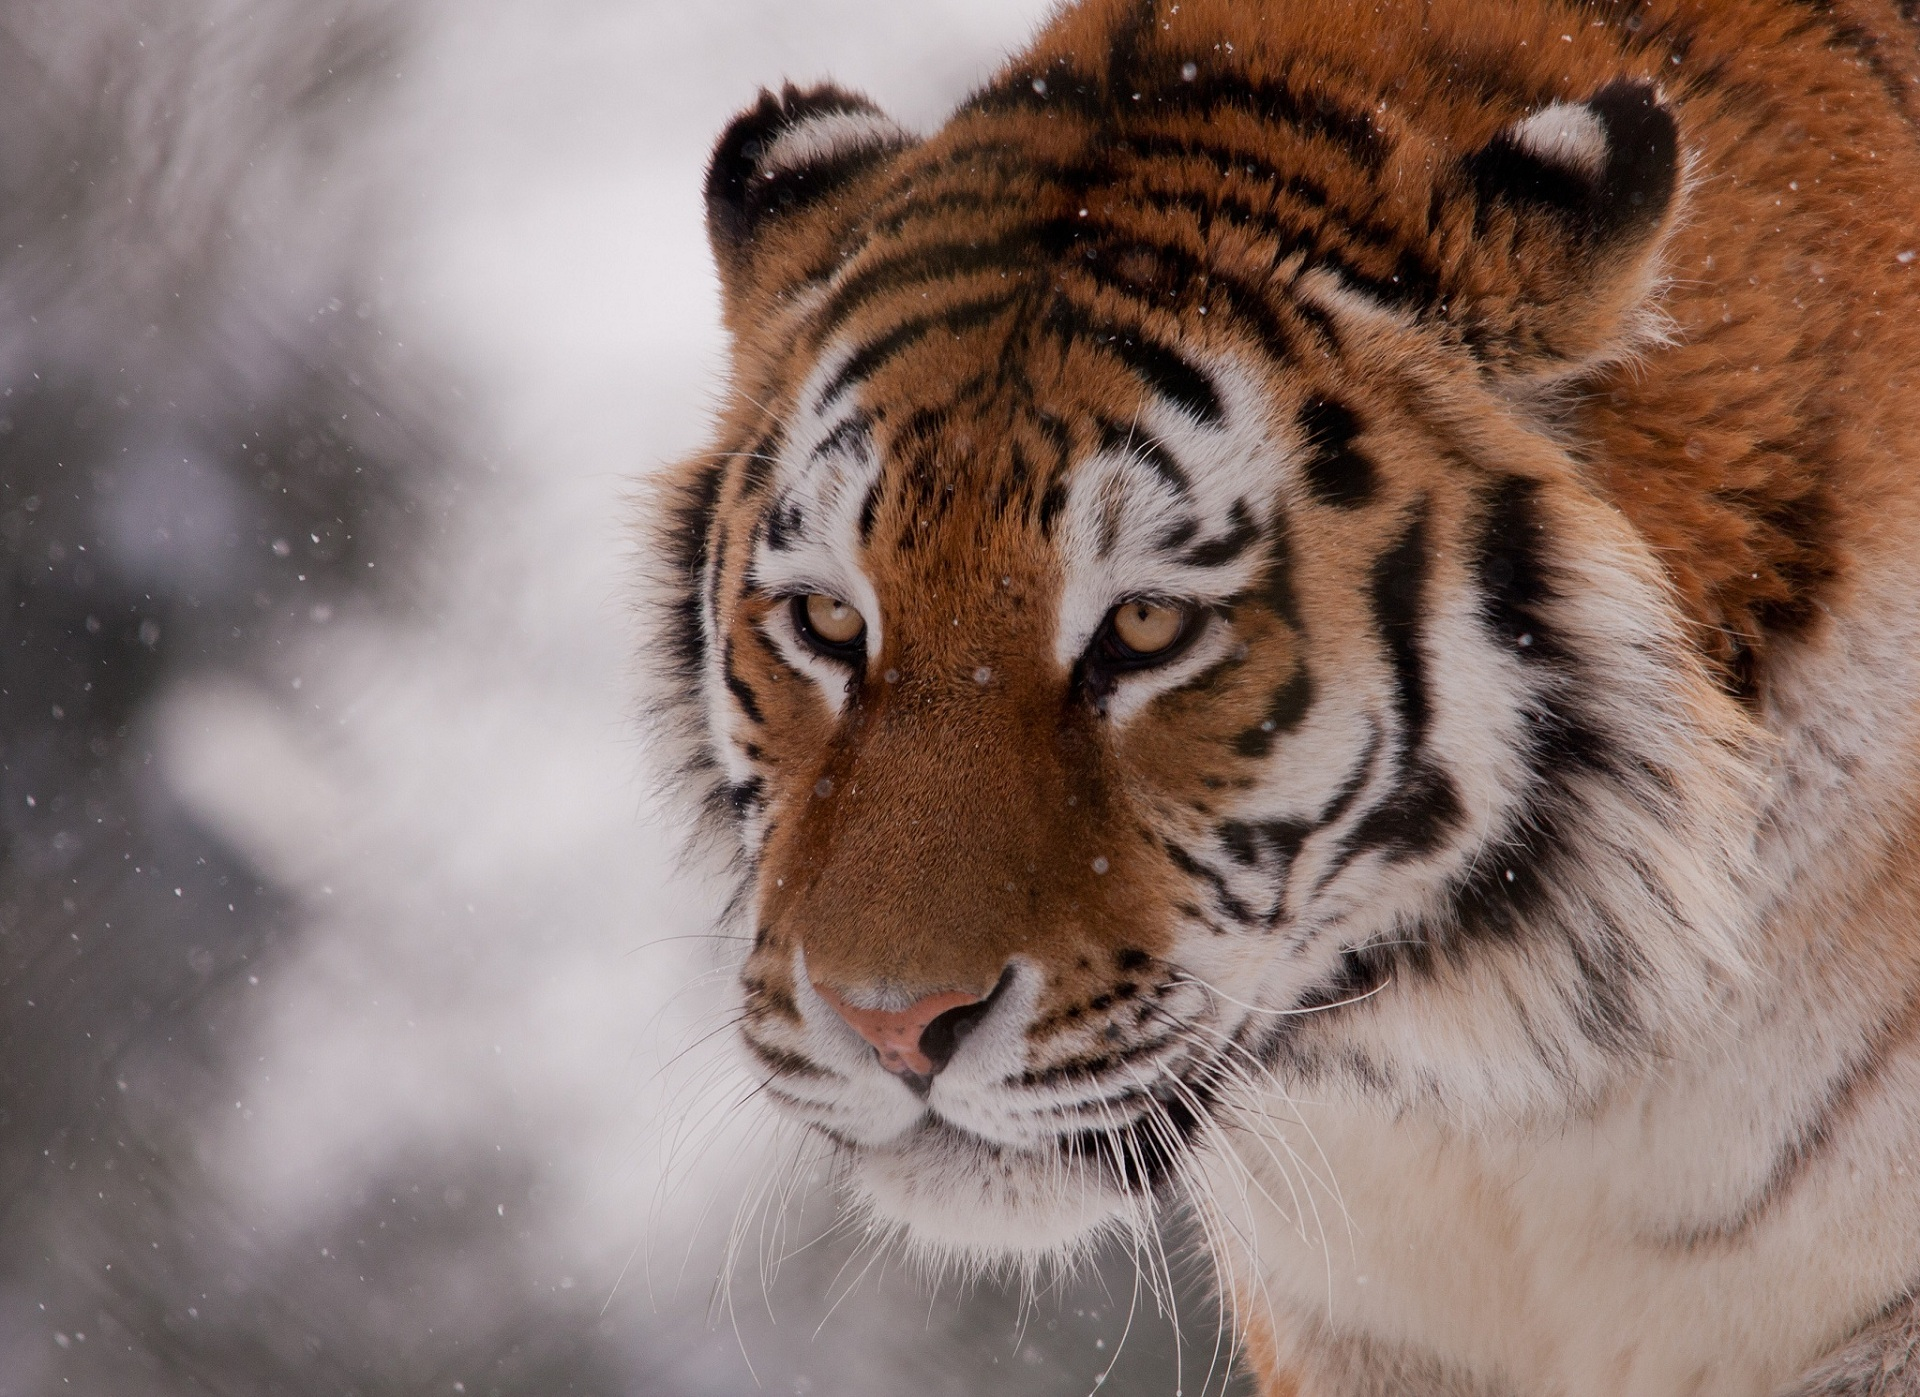Tigrew: (634, 15, 1874, 1321)
